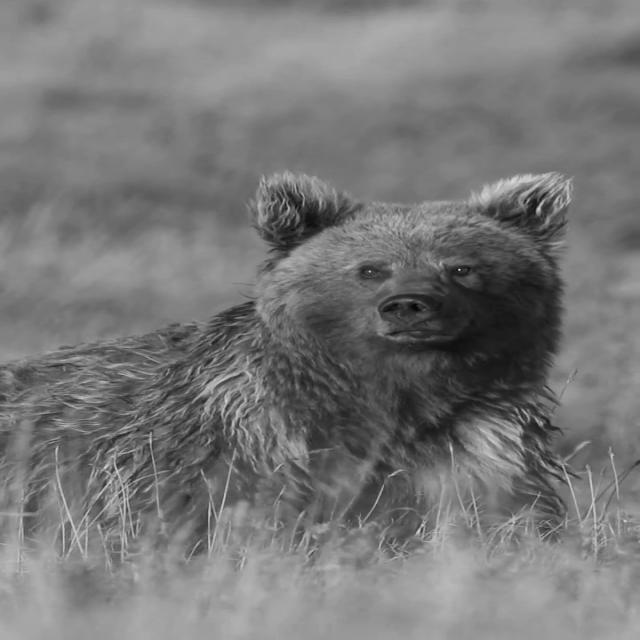Bear: (0, 169, 582, 573)
